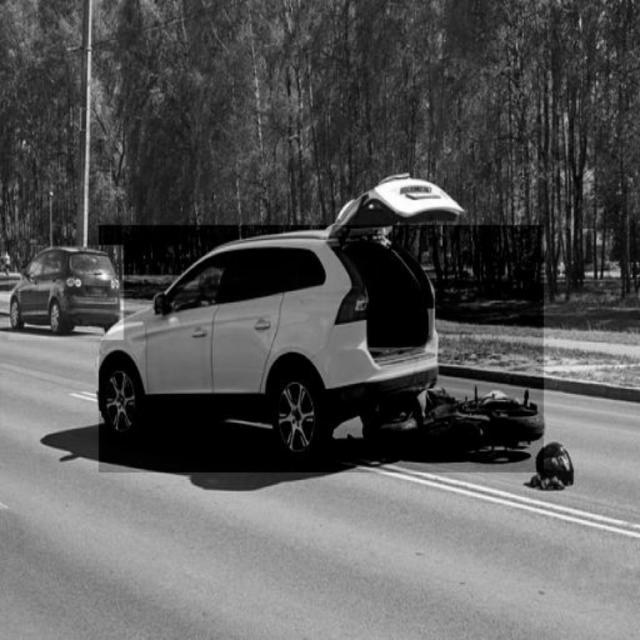accident: (100, 225, 544, 473)
vehicle: (9, 245, 123, 339)
